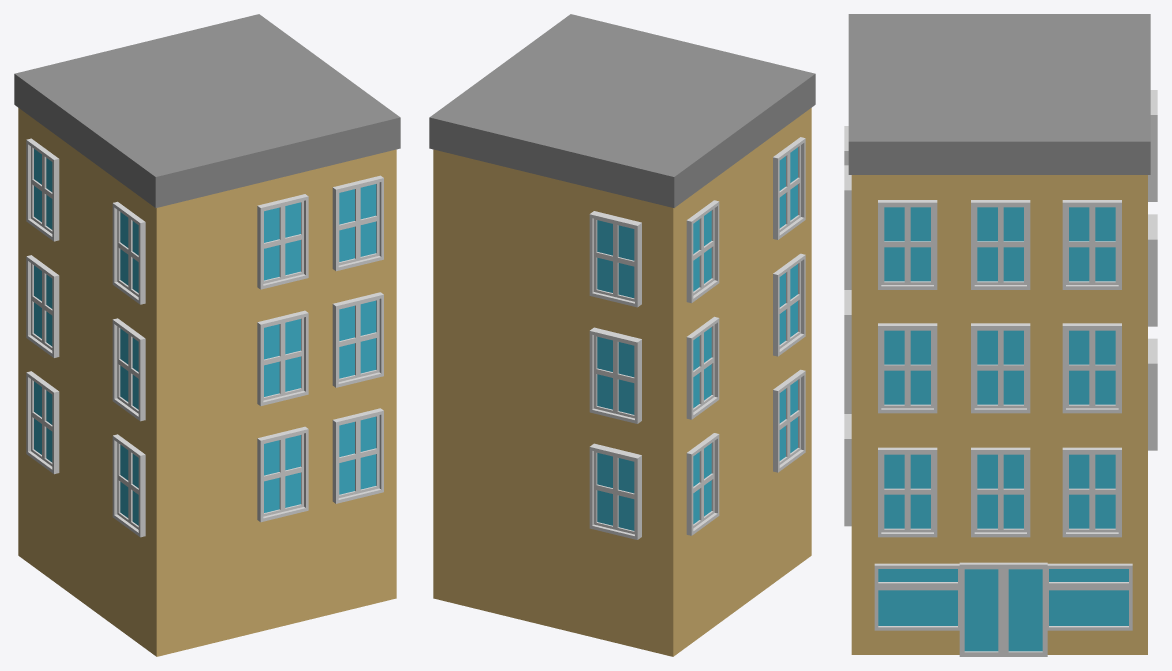
File: building2.fbx
3 renders of one model, left to right at view 1: azimuth 30°, elevation 25°; view 2: azimuth 150°, elevation 25°; view 3: azimuth 270°, elevation 25°, orthographic. The views are drawn at different scales.
Parts seen in each view (by area): view 1: Plane.005; view 2: Plane.005; view 3: Plane.005.
Boxes of the visible parts, x1=… form: Plane.005: x1=14, y1=14, x2=400, y2=656; Plane.005: x1=429, y1=14, x2=815, y2=656; Plane.005: x1=844, y1=14, x2=1157, y2=656.
Bounding box in the file's own units: 1042 × 1917 × 1057.
